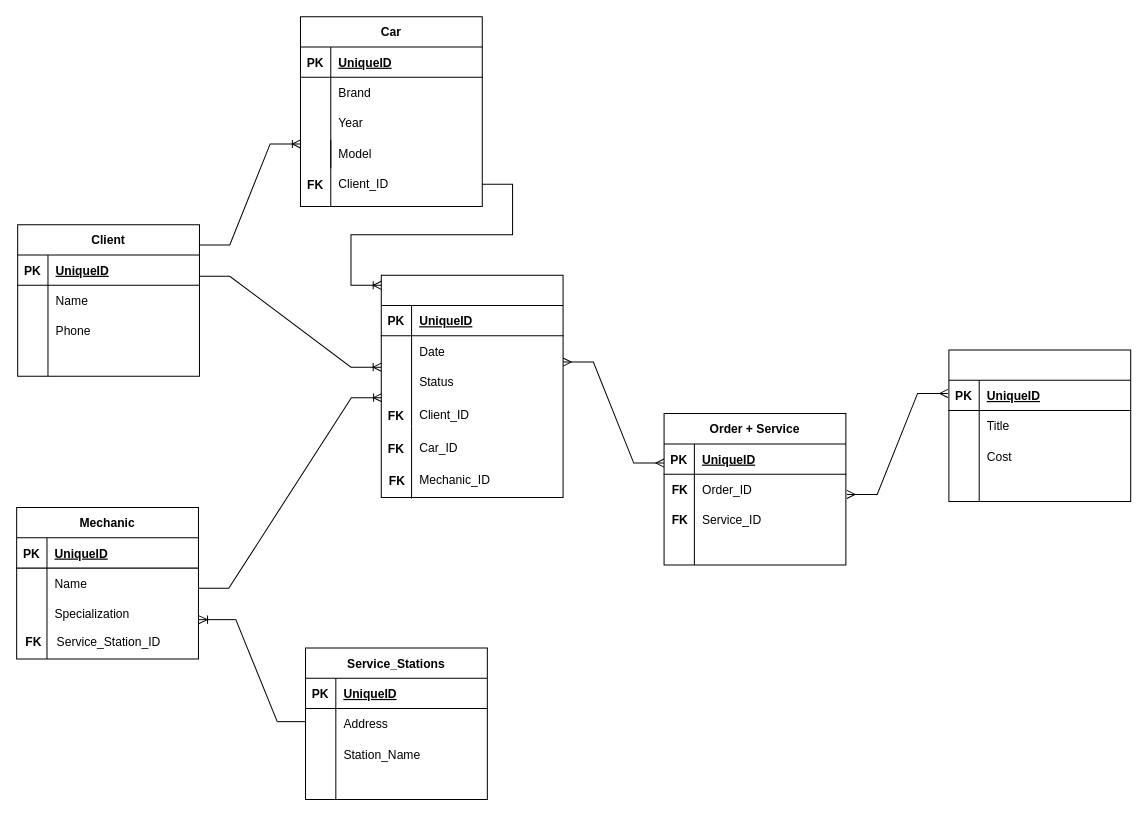
This 1147x816 diagram has some shape labels left out. The shapes that lost their labels are listed below. From the top down, each one's box as (x1, y1, x2, y2) in pixels, then its label:
(380, 274, 563, 497): Order
(948, 349, 1131, 501): Service
